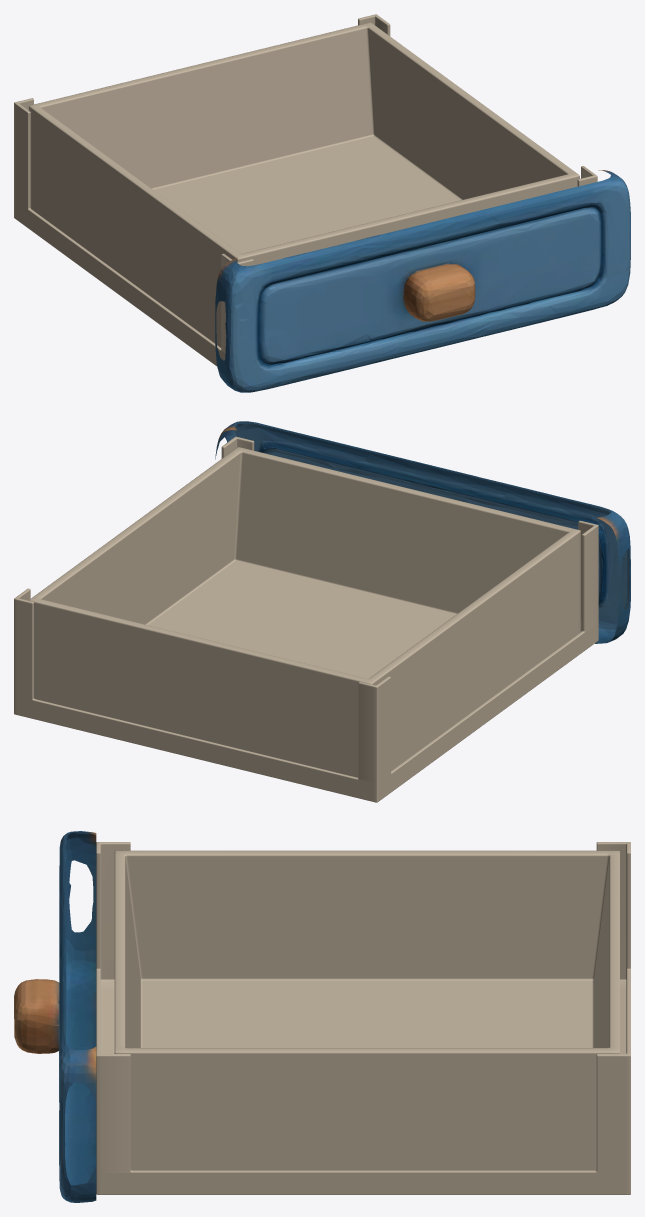
File: drawer_bottom.glb
3 renders of one model, top to bottom at view 1: azimuth 30°, elevation 25°; view 2: azimuth 150°, elevation 25°; view 3: azimuth 270°, elevation 25°, orthographic. The views are drawn at different scales.
Parts seen in each view (by area): view 1: prefab_drawer_body_3, source_front_cap_0; view 2: prefab_drawer_body_3, source_front_cap_0; view 3: prefab_drawer_body_3, source_front_cap_0.
Boxes of the visible parts, x1,y1,x2,y2 form: prefab_drawer_body_3: [14, 14, 597, 366]; source_front_cap_0: [215, 170, 630, 392]; prefab_drawer_body_3: [14, 436, 598, 802]; source_front_cap_0: [215, 421, 630, 643]; prefab_drawer_body_3: [96, 842, 630, 1194]; source_front_cap_0: [14, 831, 96, 1202].
Bounding box in the file's own units: 0.3559 × 0.1085 × 0.3908.
Materials: 2 (1 with a texture image).
